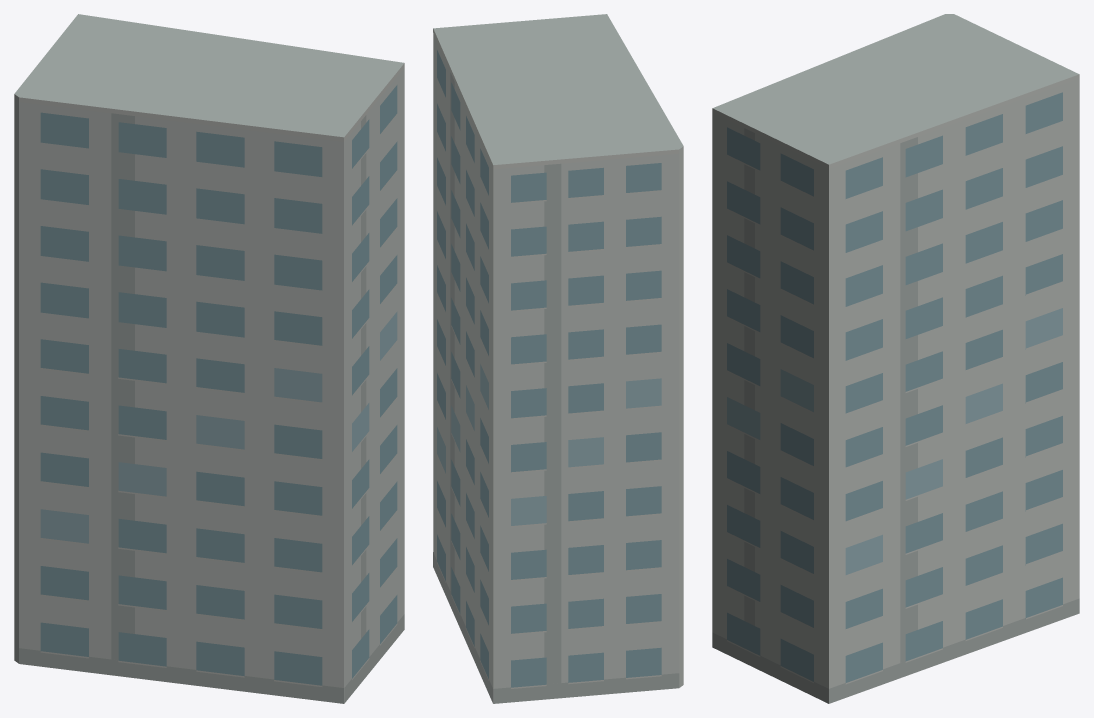
Rendered from survey-upis-32782694.glb.
3 renders of one model, left to right at view 1: azimuth 30°, elevation 25°; view 2: azimuth 150°, elevation 25°; view 3: azimuth 270°, elevation 25°, orthographic. The views are drawn at different scales.
Parts seen in each view (by area): view 1: survey-upis-32782694.tmp; view 2: survey-upis-32782694.tmp; view 3: survey-upis-32782694.tmp.
Part boxes in pixels (left/top/right/bottom): survey-upis-32782694.tmp: left=14, top=14, right=404, bottom=703; survey-upis-32782694.tmp: left=433, top=14, right=683, bottom=703; survey-upis-32782694.tmp: left=712, top=14, right=1079, bottom=703.
Bounding box in the file's own units: 18.29 × 30.5 × 18.82.
